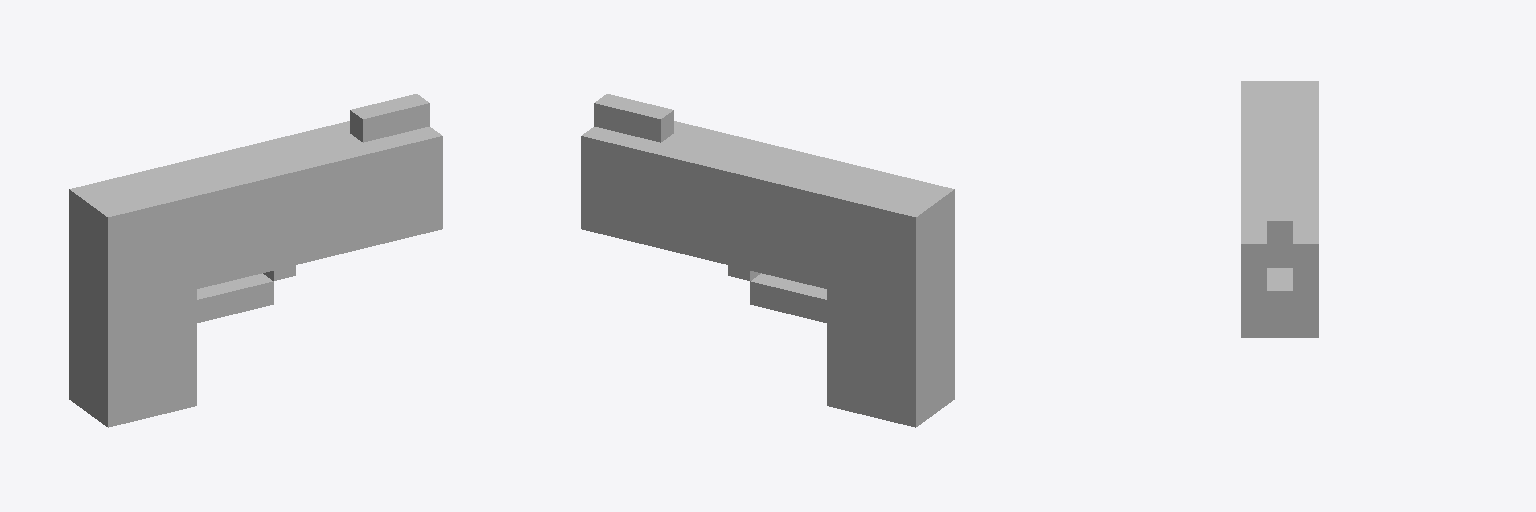
File: gun.obj
3 renders of one model, left to right at view 1: azimuth 30°, elevation 25°; view 2: azimuth 150°, elevation 25°; view 3: azimuth 270°, elevation 25°, orthographic.
Parts seen in each view (by area): view 1: object 1; view 2: object 1; view 3: object 1.
Boxes of the visible parts, box(x1,y1,x2,y2) form: object 1: box(69, 94, 442, 427); object 1: box(581, 94, 954, 427); object 1: box(1241, 81, 1318, 337).
Size of the model in its own units: 1.5 by 1 by 0.3.